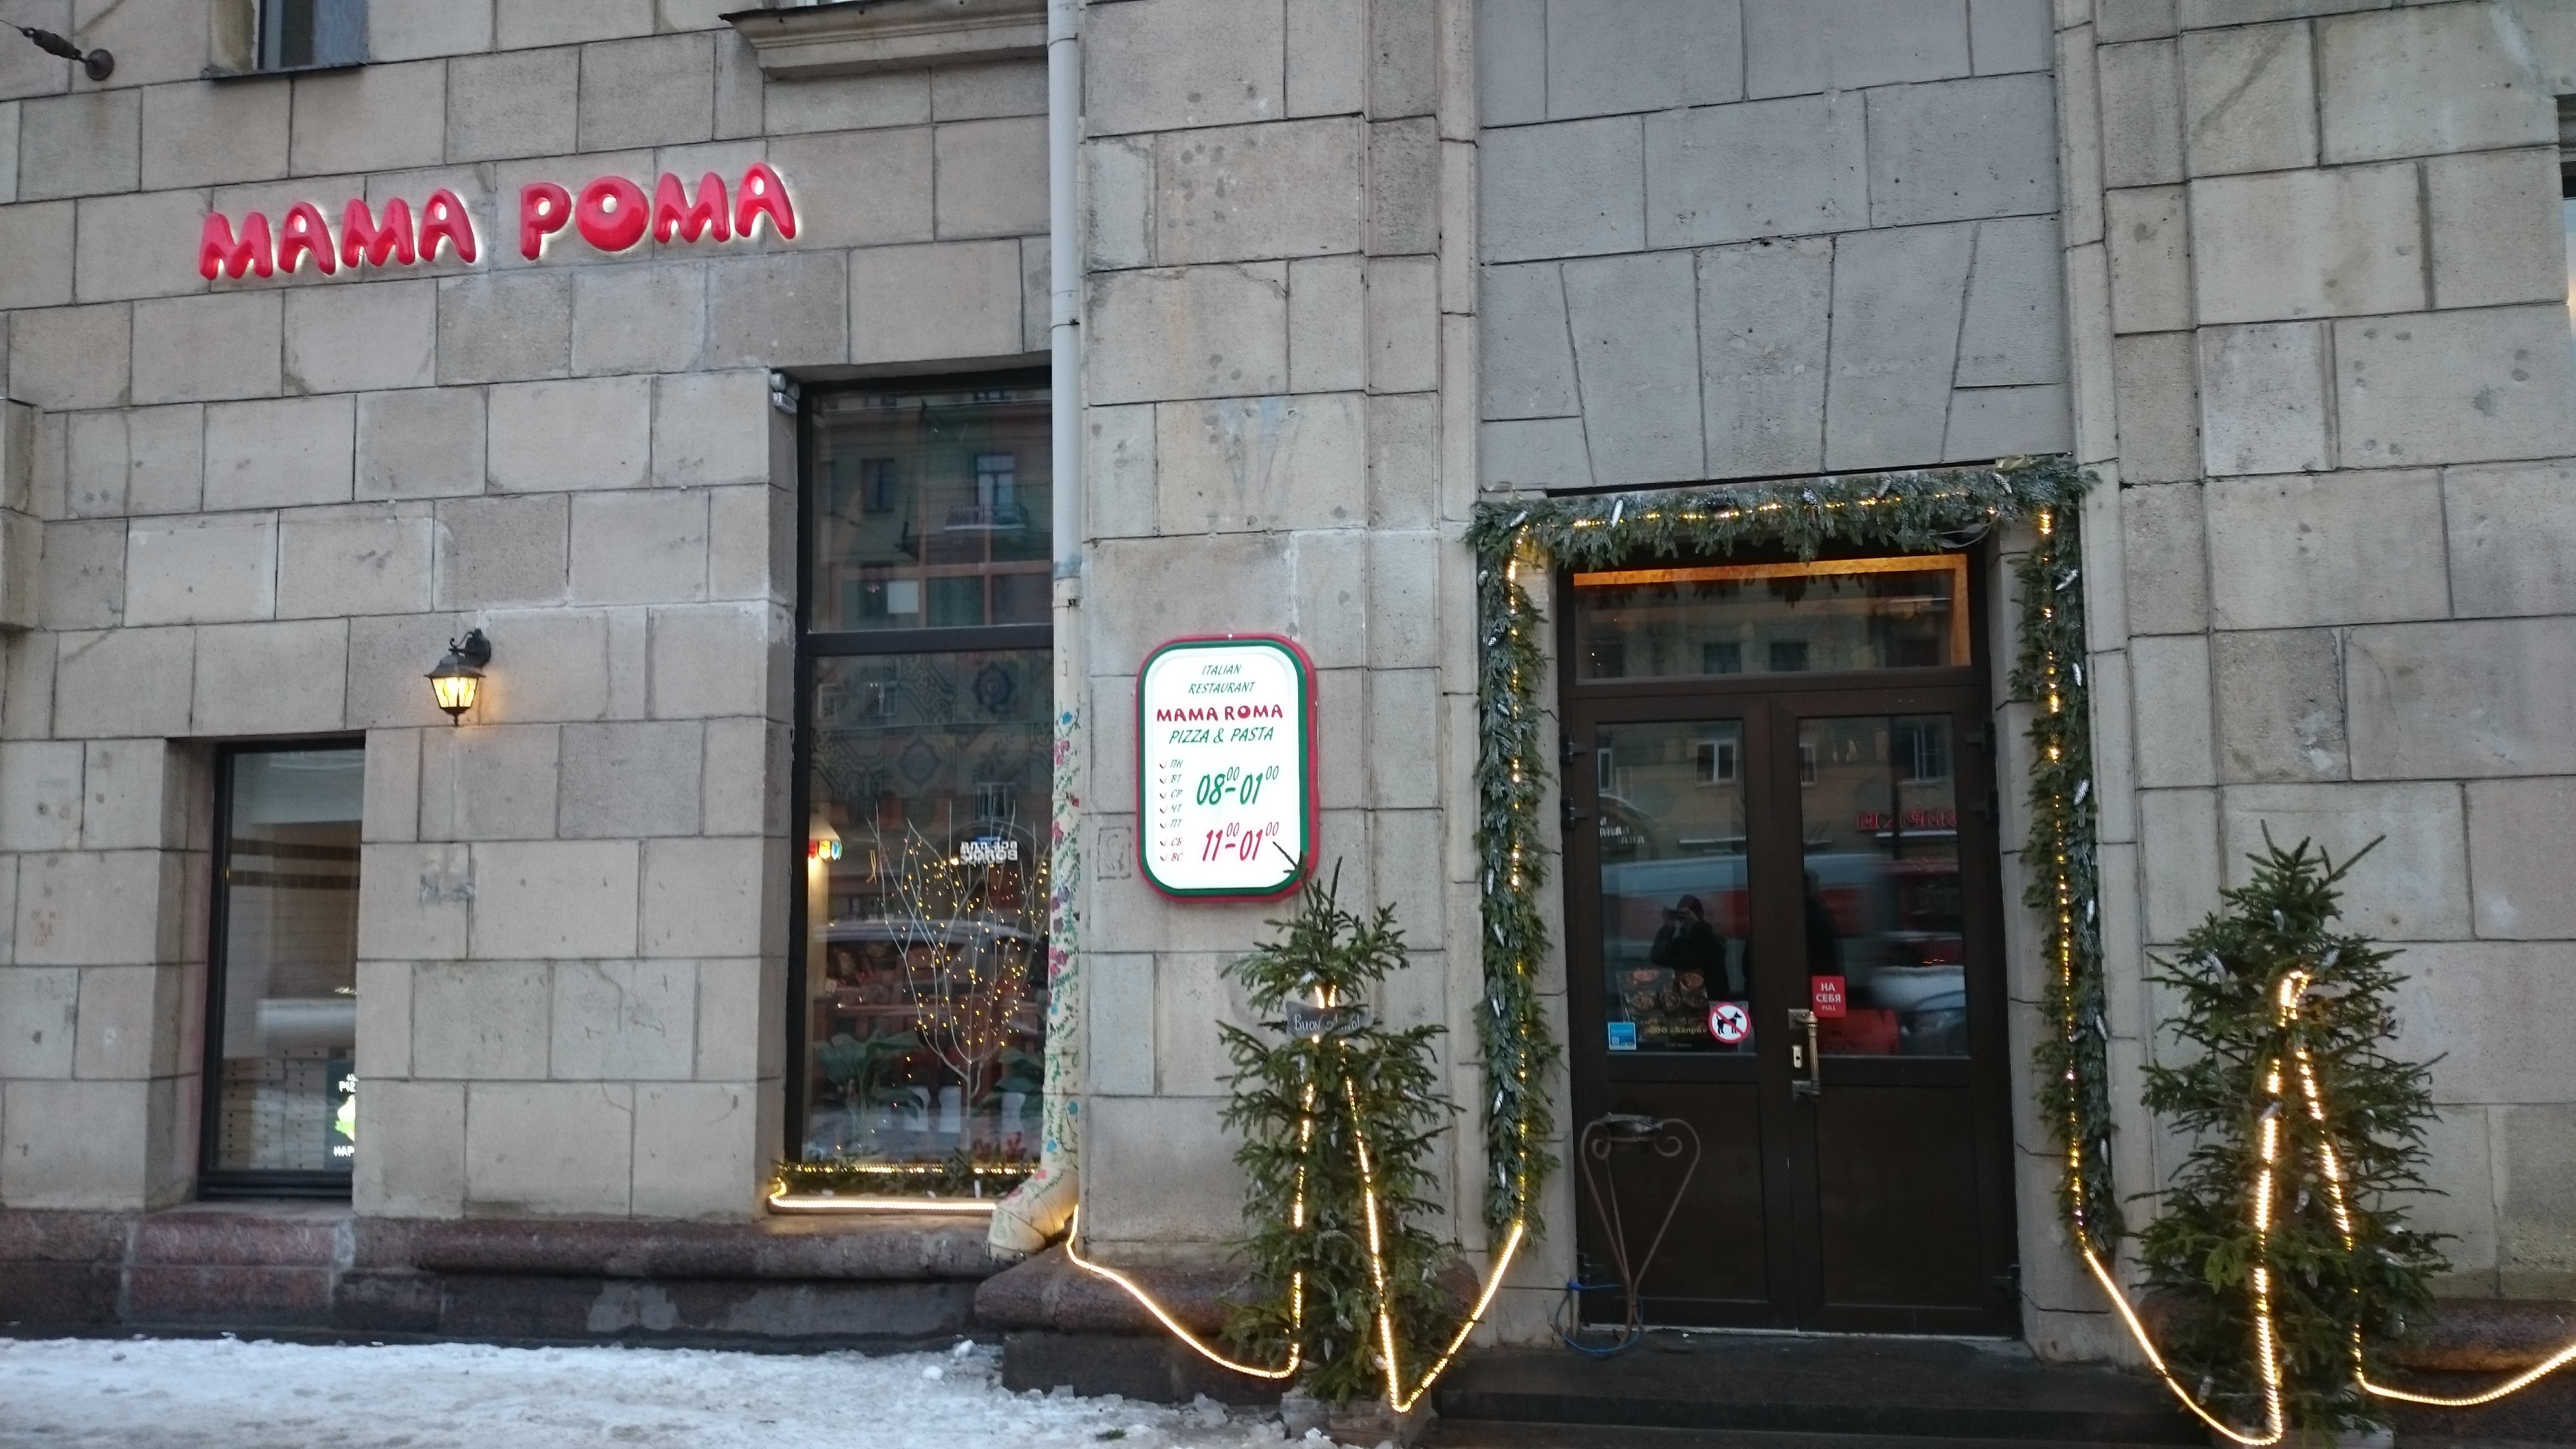door: (1564, 566, 2019, 1343)
signboard: (196, 161, 809, 287)
window: (786, 389, 1047, 1185), (211, 755, 350, 1207)
